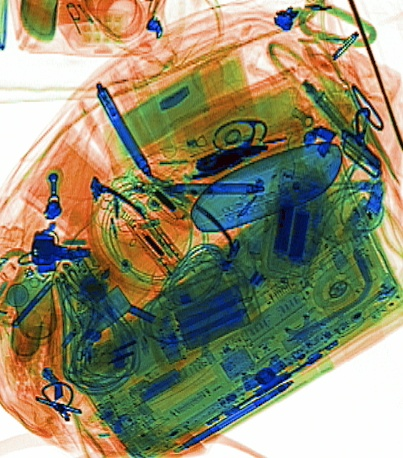powerbank: (151, 274, 264, 357)
